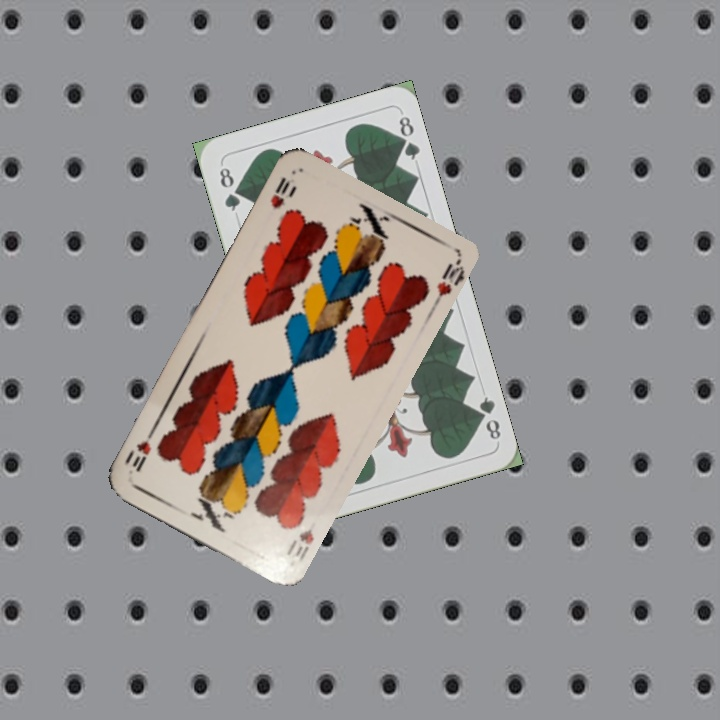G8: (470, 392, 504, 442), (215, 163, 244, 214)
H10: (282, 524, 317, 564), (266, 173, 299, 212)
